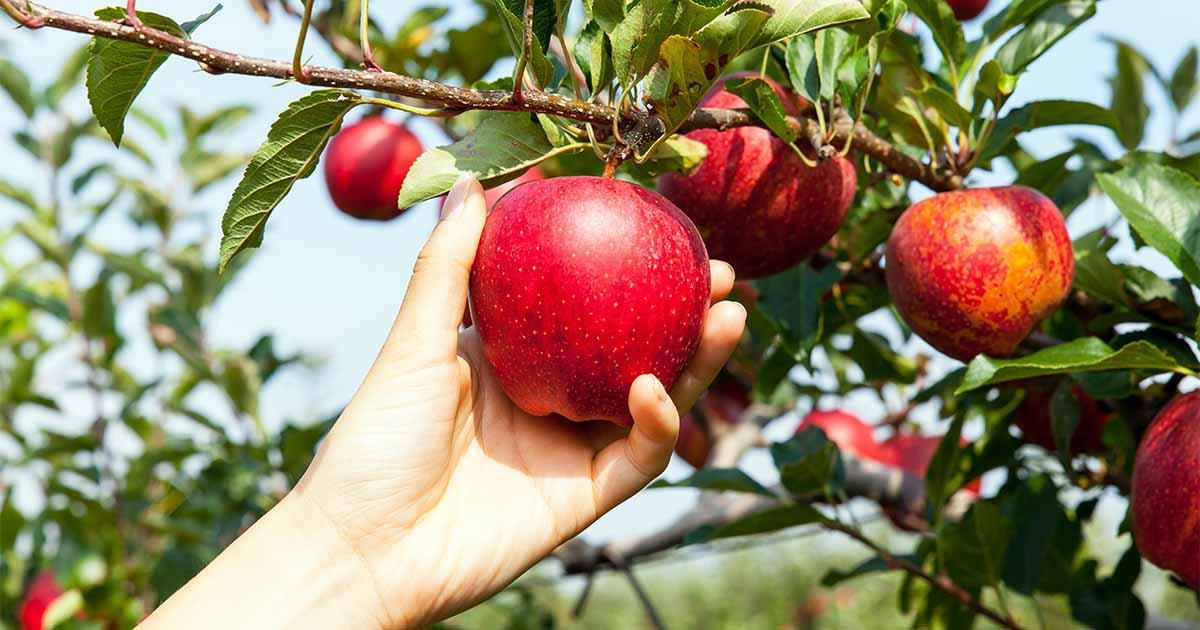apple: (466, 164, 721, 417), (657, 66, 862, 278), (884, 179, 1073, 360), (322, 115, 432, 221)
